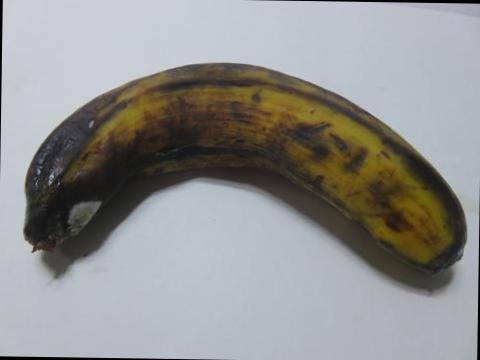overripe: (12, 30, 479, 333)
rotten: (15, 112, 130, 264)
